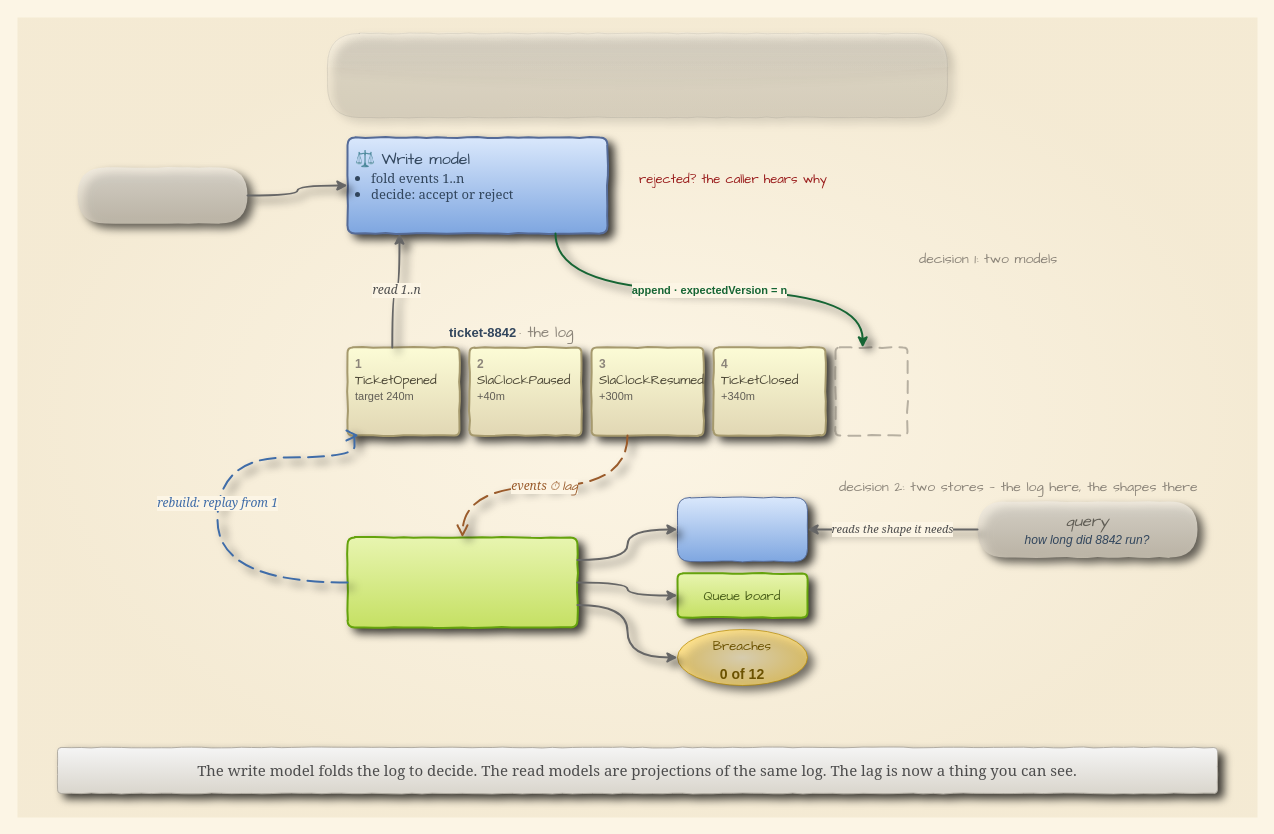
Image size: 1274x834. Some labels were removed from this diagram. The shapes that lost their labels are listed below. From the top down, each one's centre as x and y in pixels, then its label:
(640,77): CQRS with an event-sourced DB one loop · two decisions · one log
(165,197): command PauseSlaClock
(871,391): append →
(745,531): Running 80m
(465,584): 🧮 Projector apply each event to each read model
